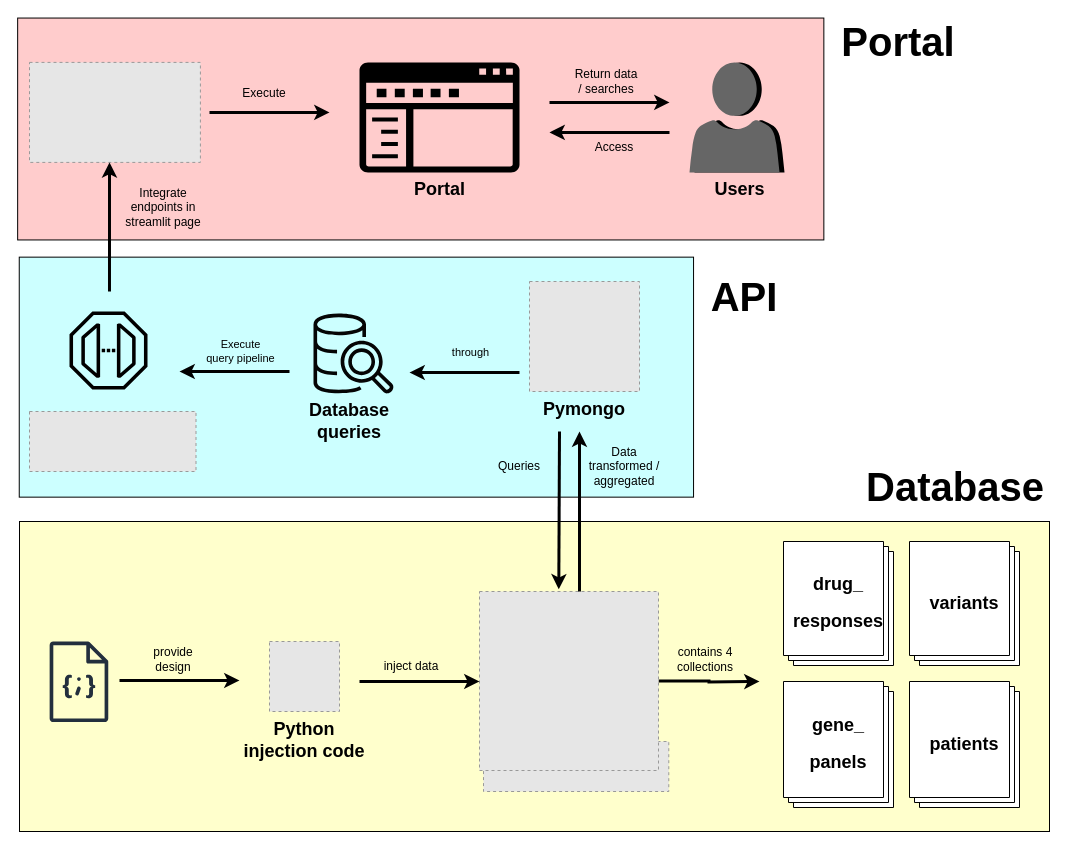
This 1067x849 diagram has some shape labels left out. Grey dashed boxes stand in for pictures. Each missing label, with the centre of its shape:
"API endpoint" belongs at pixel 108 350.
"Data schema" belongs at pixel 78 681.
